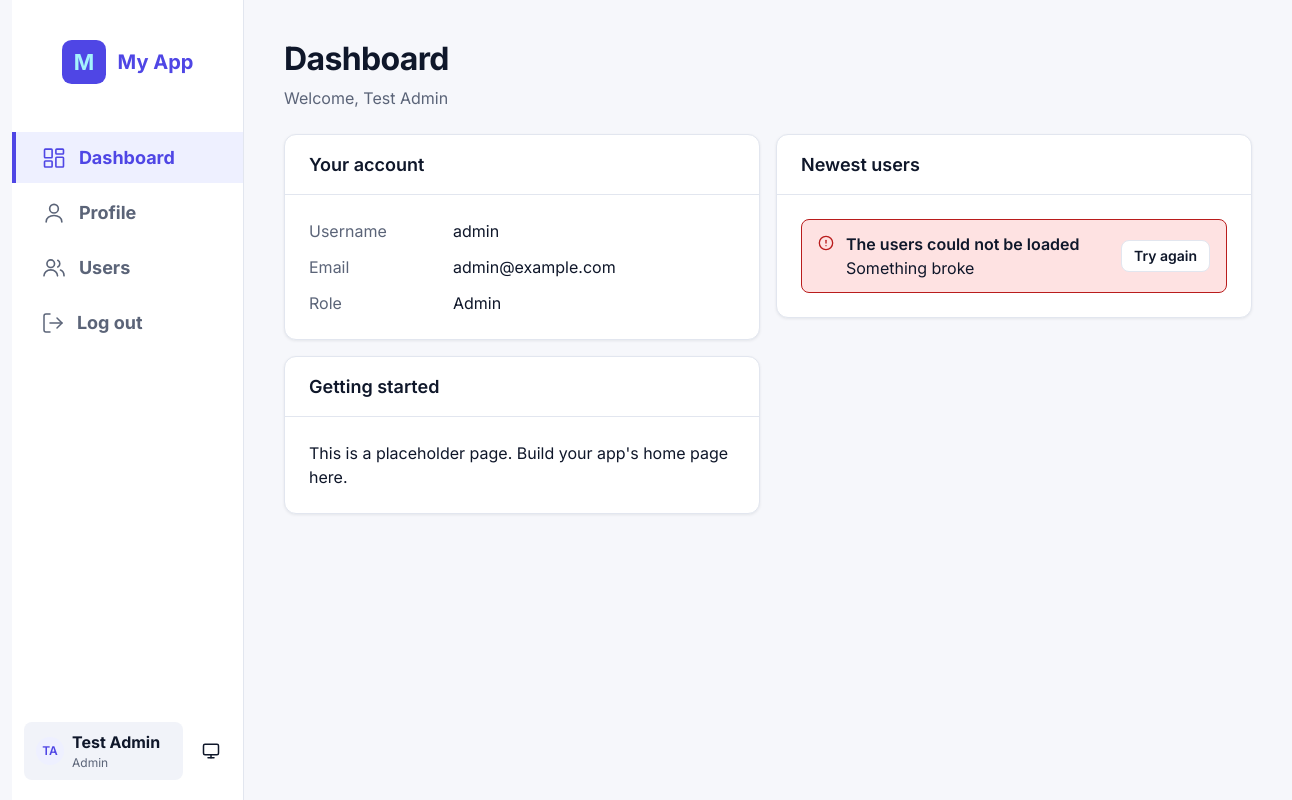
Test: dashboard (static parts and data sections) › a failing section shows its own error and retries alone; the others keep working
The image size is (1292, 800).
expect the message shows "The users could not be loaded": met, box [846,234,1080,254]
expect the text "admin@example.com" is shown: met, box [453,257,616,277]
Click the button "Try again" at (1165, 256), box [1121,240,1210,272]
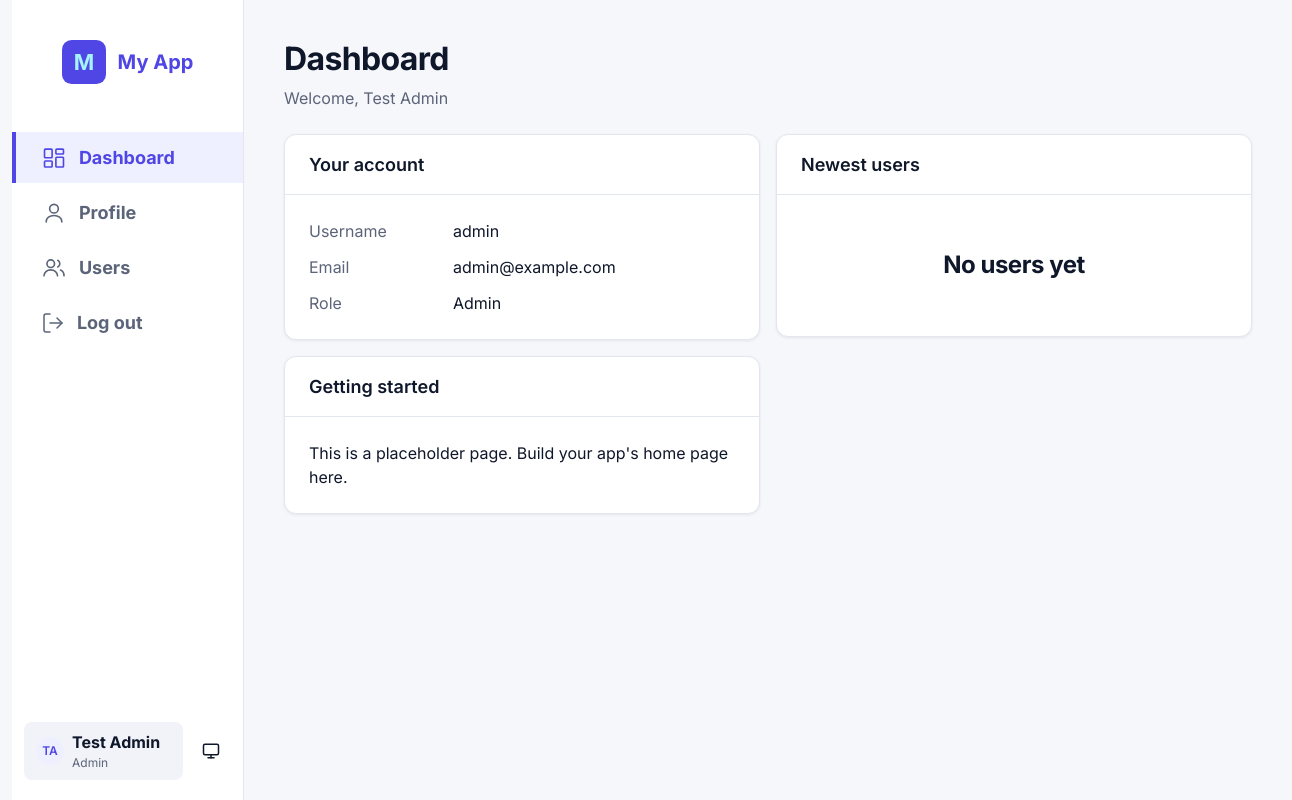
expect the text "No users yet" is shown: met, box [943,251,1085,280]
expect the message "The users could not be loaded Something broke Try again" is gone: met
